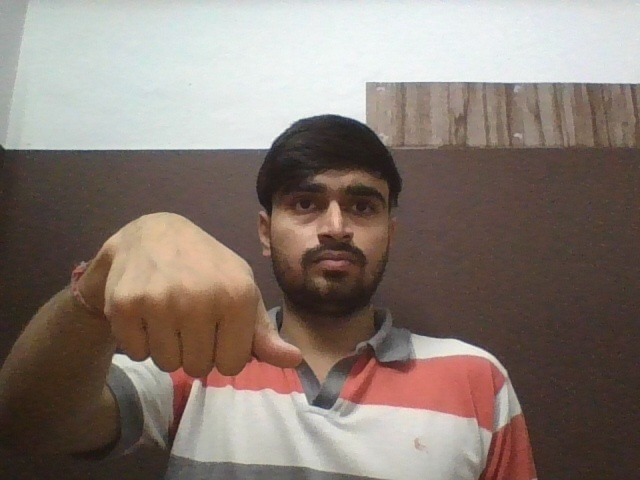Yes: (104, 211, 304, 379)
